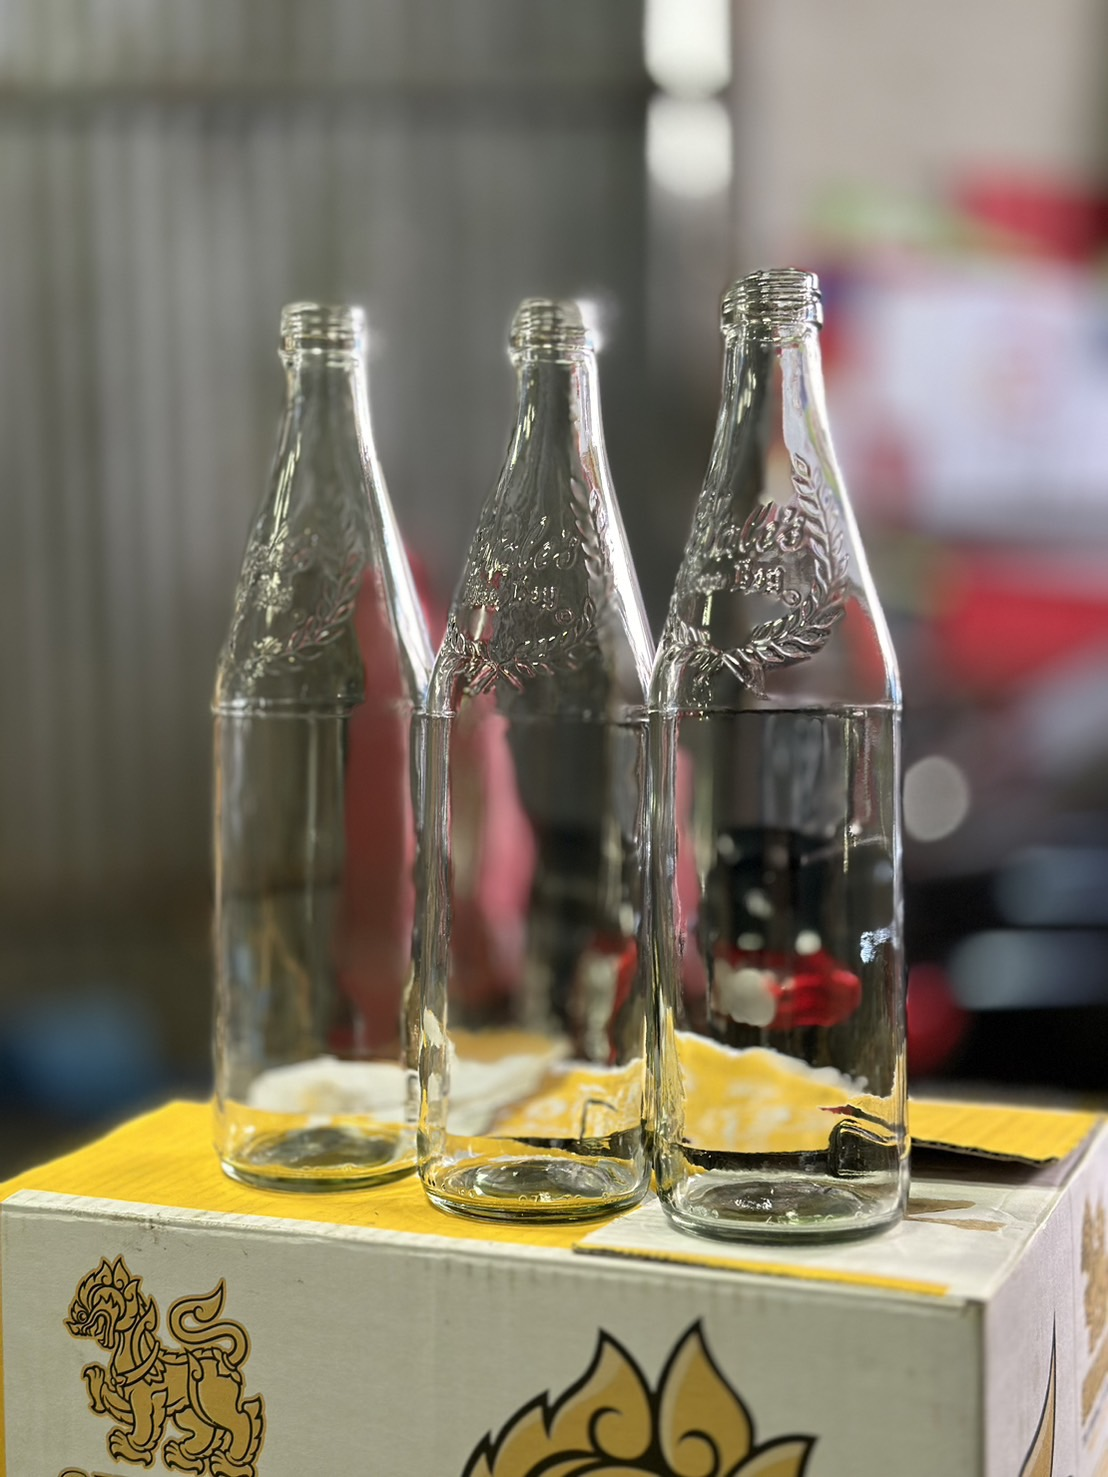glass_bottle: (184, 246, 942, 1267)
